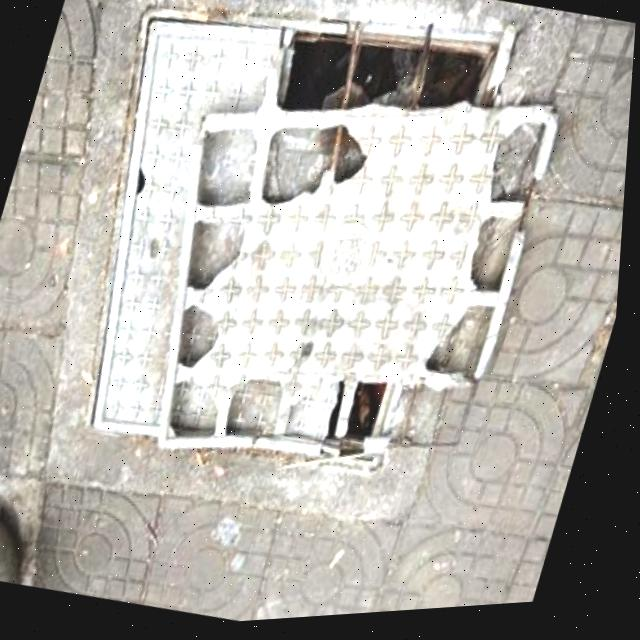manhole: (11, 0, 587, 536)
